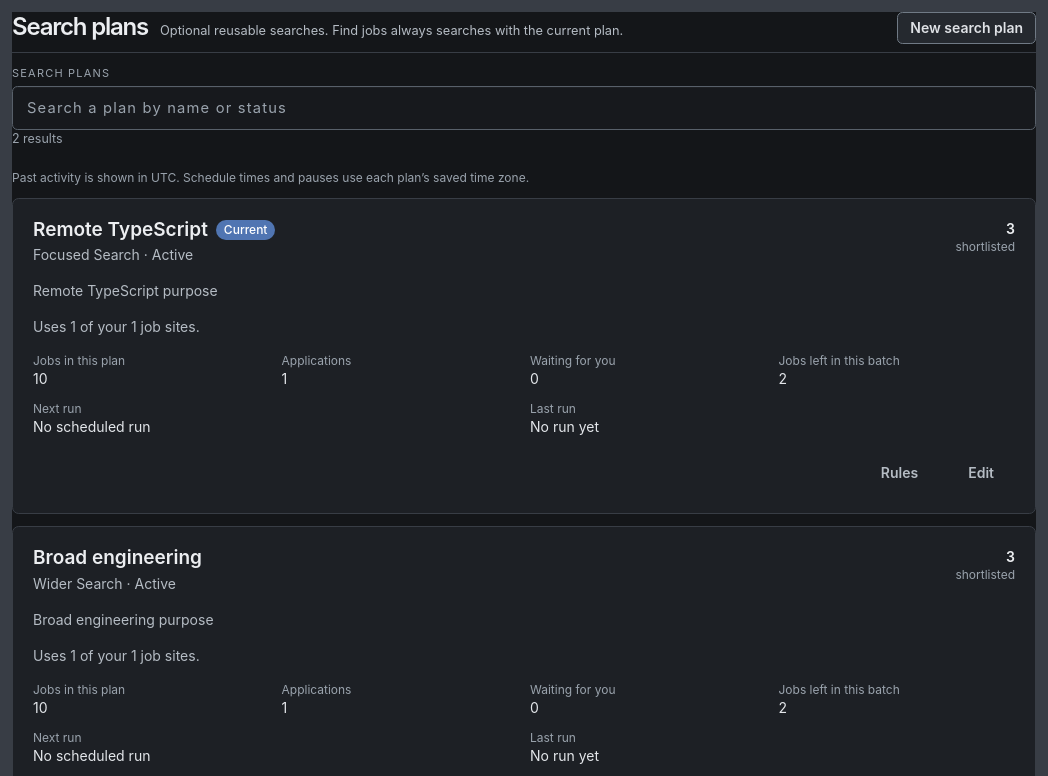
Test: CampaignsScreen › explains why the current plan cannot be archived and disables that choice
Click the button "Edit".
click(981, 473)  # box [947,453,1015,493]
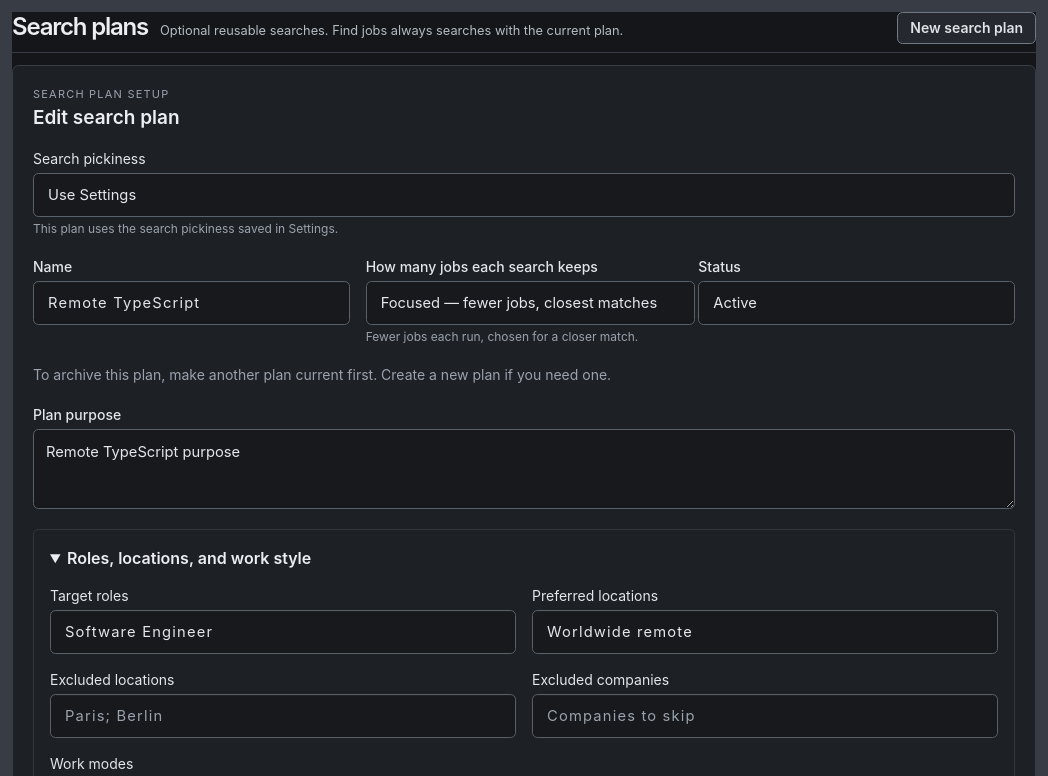
Expected: the text "make another plan current first" is shown, [33,366,611,383]
